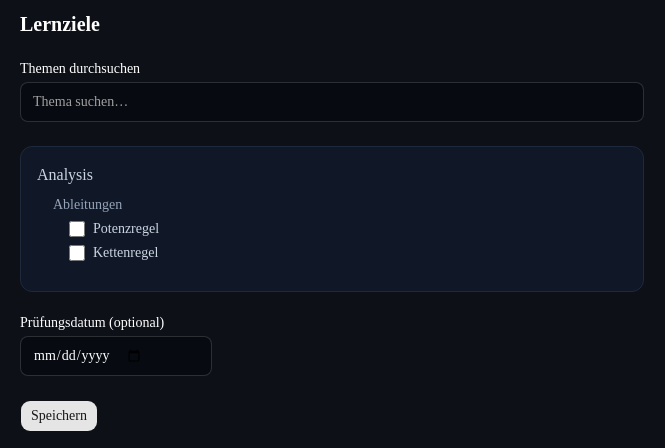
Lernziele › search filter hides non-matching topics
The image size is (665, 448).
In the field with placeholder "Thema suchen…": (332, 102) [20, 82, 644, 122], type "Kettenregel"
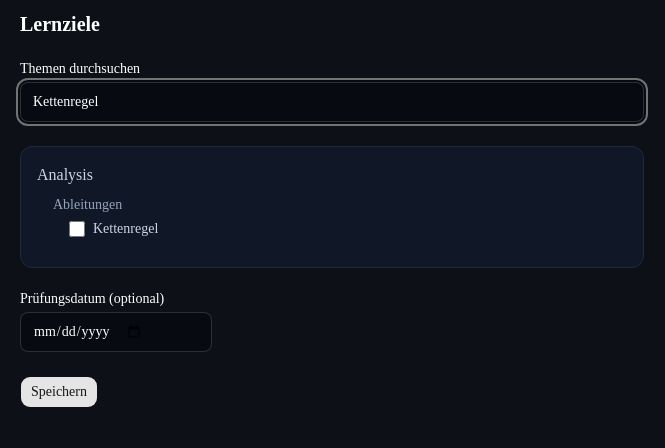
Expected: the text "Kettenregel" is shown, [93, 219, 158, 239]
Expected: the text "Potenzregel" is gone
